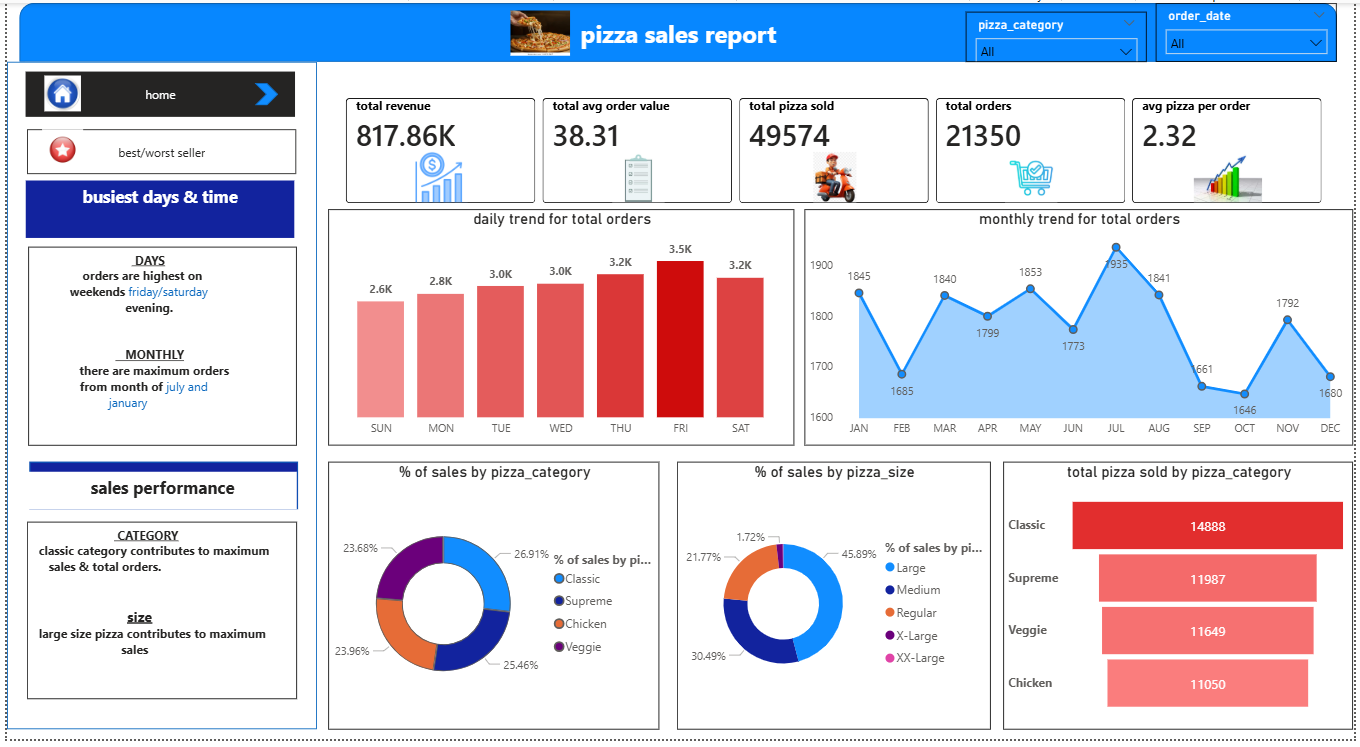

The page's visual inventory and layout, read from the dashboard file:
{"tool":"powerbi","page":{"name":"home","canvas":[1500,820],"ordinal":0},"visuals":[{"type":"cardVisual","fields":{"Data":["pizza_sales.total revenue","pizza_sales.total avg order value","pizza_sales.total pizza sold","pizza_sales.total orders","pizza_sales.avg pizza per order"]},"box":[360.7,89.1,1121.1,151.8],"z":0},{"type":"shape","box":[13.9,0,1467.9,65.5],"z":1000},{"type":"textbox","box":[315.2,11.3,866.7,77.2],"z":2000},{"type":"image","box":[472.1,8.4,243.7,50.1],"z":3000},{"type":"columnChart","title":"daily trend for total orders","fields":{"Category":["pizza_sales.order day"],"Y":["pizza_sales.total orders"]},"box":[357.9,229.8,519.5,263.2],"z":4000},{"type":"slicer","fields":{"Values":["pizza_sales.order_date"]},"box":[1279.9,0,201.9,65.5],"z":5000},{"type":"donutChart","title":"% of sales by pizza_category","fields":{"Y":["Sum(pizza_sales.total_price)"],"Category":["pizza_sales.pizza_category"]},"box":[357.9,511.1,369.1,298],"z":6000},{"type":"donutChart","title":"% of sales by pizza_size","fields":{"Y":["Sum(pizza_sales.total_price)"],"Category":["pizza_sales.pizza_size"]},"box":[746.5,511.1,349.6,298],"z":7000},{"type":"funnel","fields":{"Category":["pizza_sales.pizza_category"],"Y":["pizza_sales.total pizza sold"]},"box":[1110,511.1,389.9,298],"z":8000},{"type":"shape","box":[0,65.5,345.4,743.7],"z":9000},{"type":"textbox","box":[20.9,197.8,299.4,64.1],"z":10000},{"type":"textbox","box":[23.7,271.6,299.4,221.4],"z":11000},{"type":"shape","box":[25.1,511.1,299.4,52.9],"z":12000},{"type":"textbox","box":[23.7,522.3,299.4,41.8],"z":13000},{"type":"textbox","box":[22.3,578,300.8,197.8],"z":14000},{"type":"slicer","fields":{"Values":["pizza_sales.pizza_category"]},"box":[1068.2,9.7,201.9,55.7],"z":14001},{"type":"areaChart","title":"monthly trend for total orders","fields":{"Category":["pizza_sales.order month"],"Y":["pizza_sales.total orders"]},"box":[888.5,229.8,611.4,263.2],"z":14002},{"type":"pageNavigator","box":[20.9,76.6,300.8,50.1],"z":14003},{"type":"pageNavigator","box":[22.3,140.7,300.8,50.1],"z":14004},{"type":"shape","box":[275.7,89.1,26.5,25.1],"z":14005},{"type":"image","box":[0,80.8,123.9,40.4],"z":14006},{"type":"image","box":[0,140.7,123.9,46],"z":14007}]}

Visuals, with their boxes in screenshot pixels (x1, y1, x2, y2), scaled from the page's 1500x820 canvas onto the 1360x747 screenshot:
cardVisual - pizza_sales.total revenue x pizza_sales.total avg order value: (327,81,1343,219)
shape: (13,0,1343,60)
textbox: (286,10,1072,81)
image: (428,8,649,53)
"daily trend for total orders" columnChart: (324,209,796,449)
slicer - pizza_sales.order_date: (1160,0,1343,60)
"% of sales by pizza_category" donutChart: (324,466,659,737)
"% of sales by pizza_size" donutChart: (677,466,994,737)
funnel - pizza_sales.pizza_category x pizza_sales.total pizza sold: (1006,466,1359,737)
shape: (0,60,313,737)
textbox: (19,180,290,239)
textbox: (21,247,293,449)
shape: (23,466,294,514)
textbox: (21,476,293,514)
textbox: (20,527,293,707)
slicer - pizza_sales.pizza_category: (969,9,1152,60)
"monthly trend for total orders" areaChart: (806,209,1359,449)
pageNavigator: (19,70,292,115)
pageNavigator: (20,128,293,174)
shape: (250,81,274,104)
image: (0,74,112,110)
image: (0,128,112,170)
